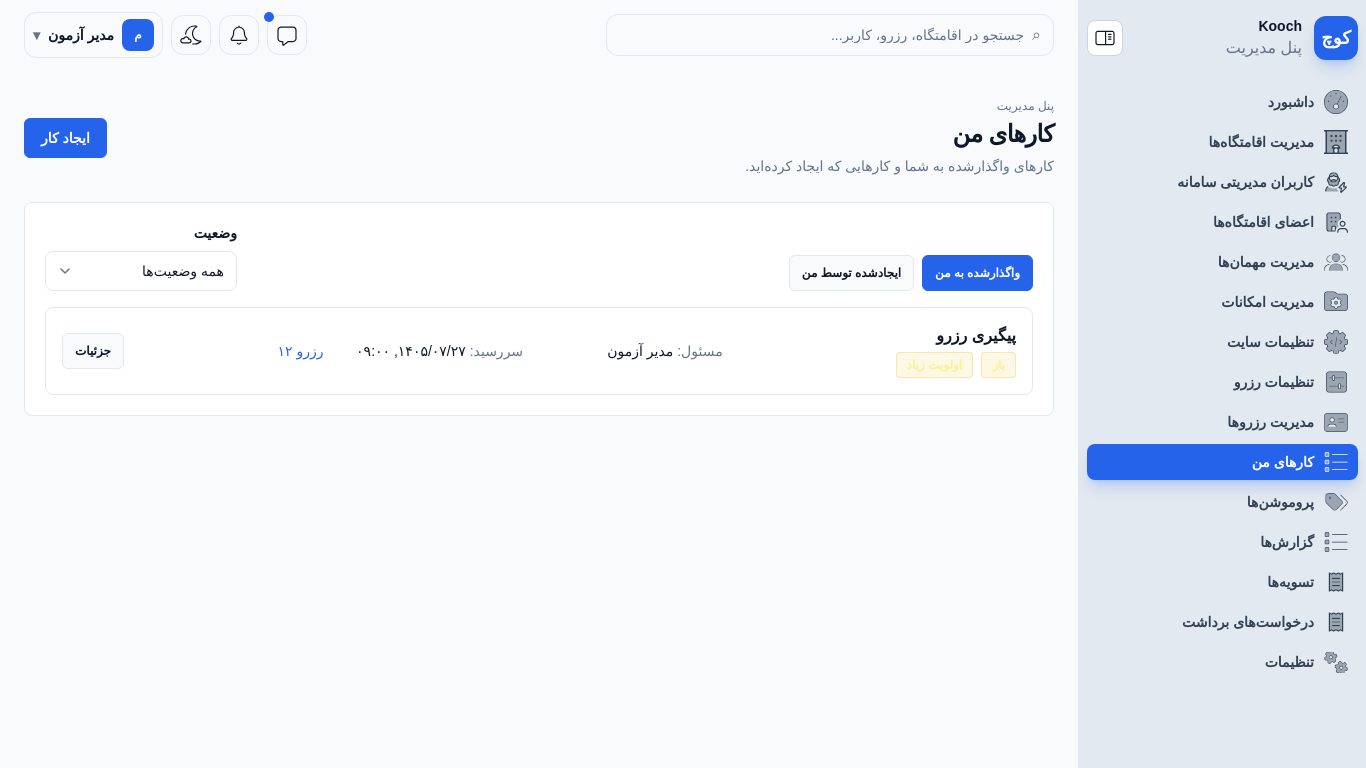
Test case: Admin tasks › loads history and submits a changed status with optional trimmed note
Click the button with aria-label "جزئیات پیگیری رزرو" at (93, 351), box [62, 333, 124, 369]
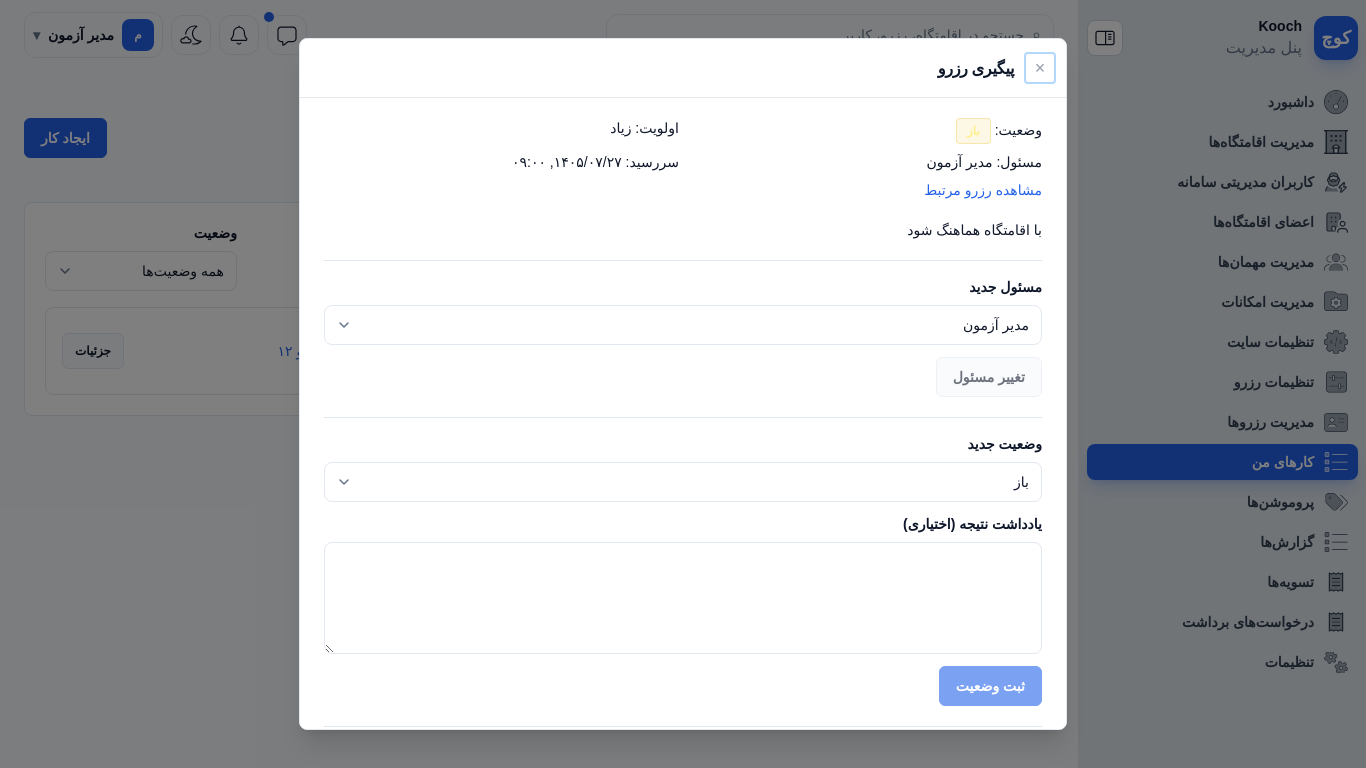
Result: the button "ثبت وضعیت" is disabled at [939, 666, 1042, 706]
Select "انجام‌شده" in the dropdown labelled "وضعیت جدید" at (683, 482), box [324, 462, 1042, 502]
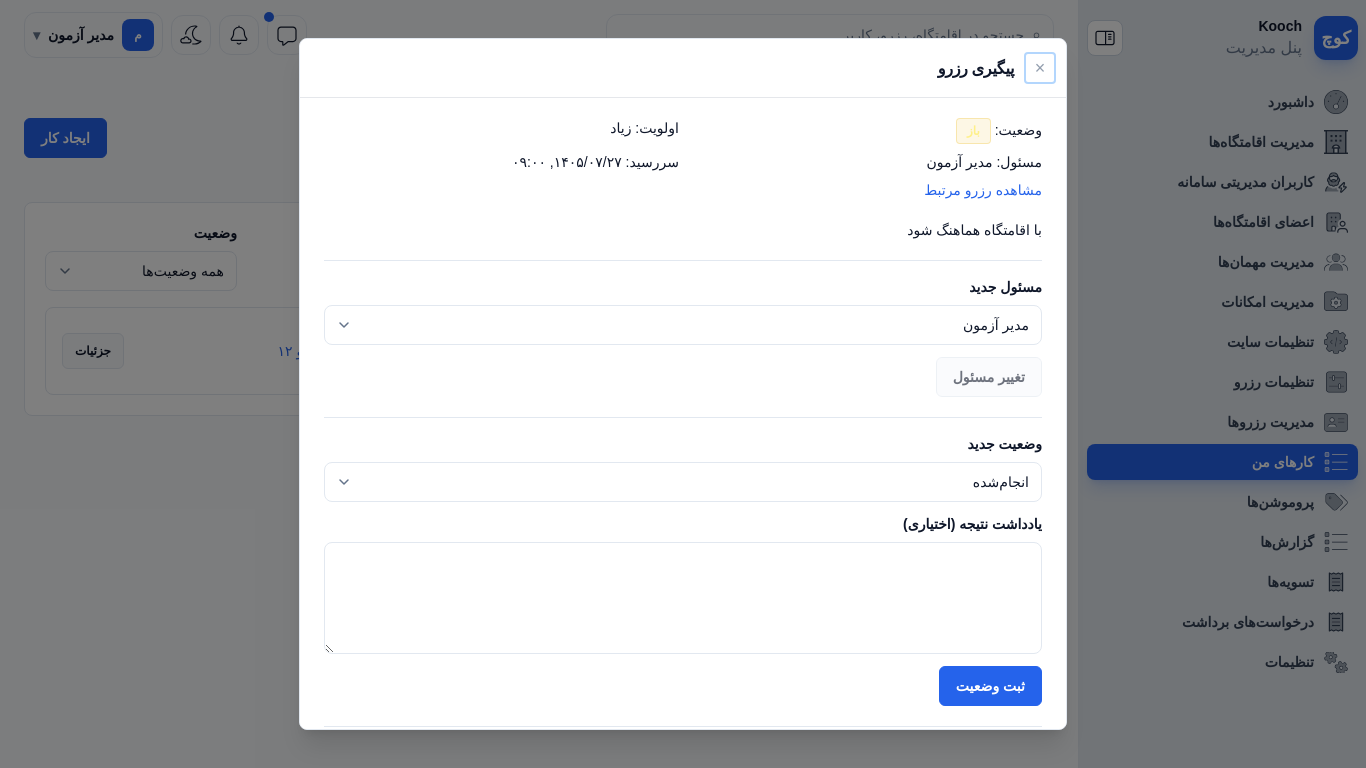
Type "  پیگیری شد  " into the text box labelled "یادداشت نتیجه (اختیاری)" at (683, 598), box [324, 542, 1042, 654]
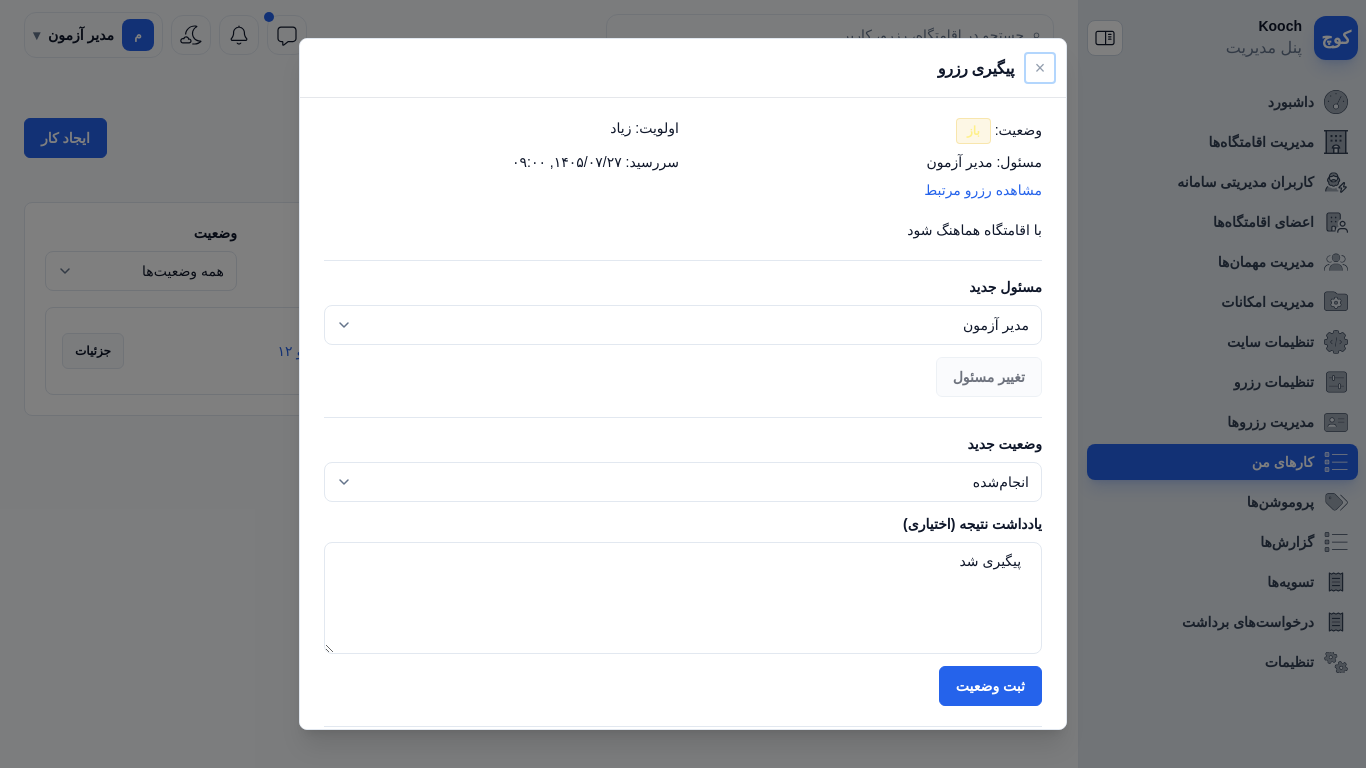
Click the button "ثبت وضعیت" at (990, 686), box [939, 666, 1042, 706]
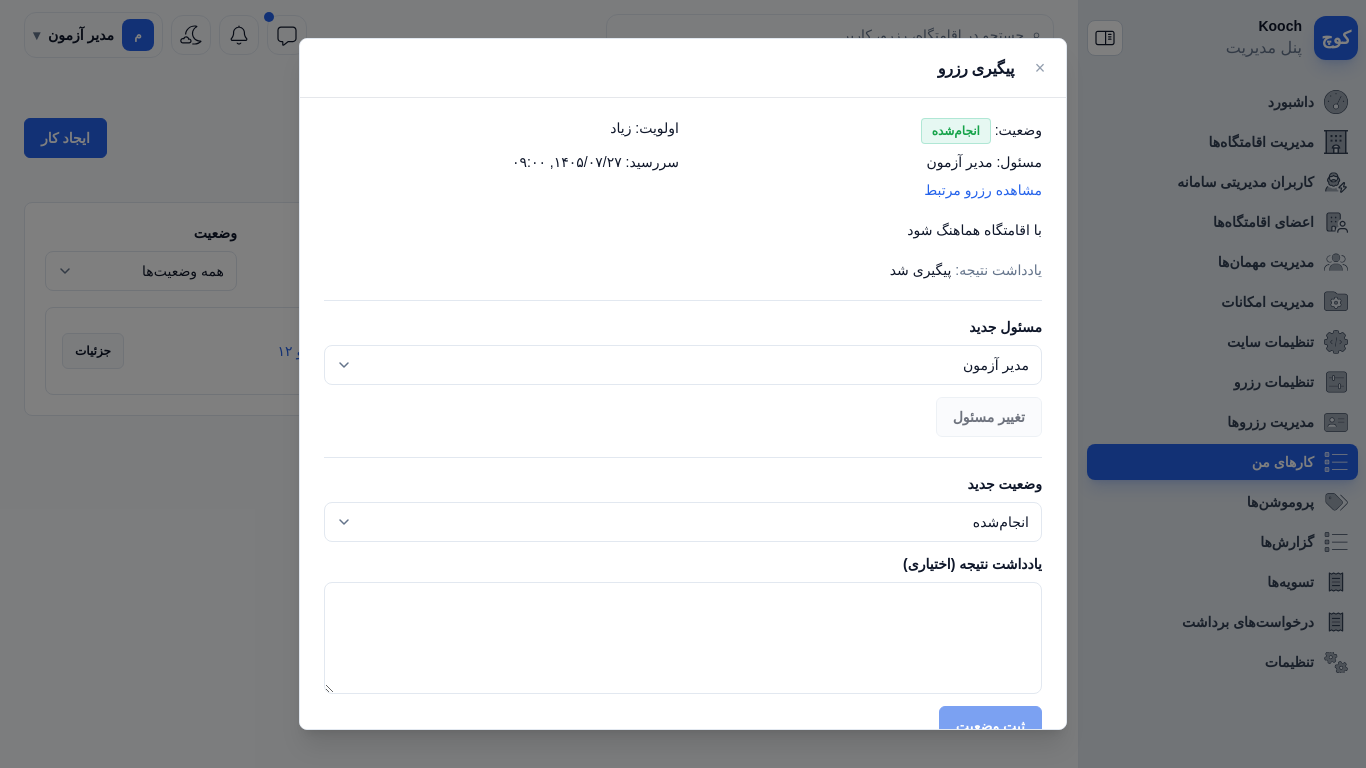
Result: the text "پیگیری شد" is shown at [890, 262, 951, 278]
